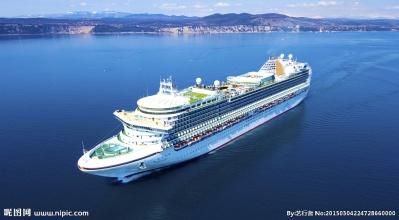youlun: (72, 50, 313, 182)
